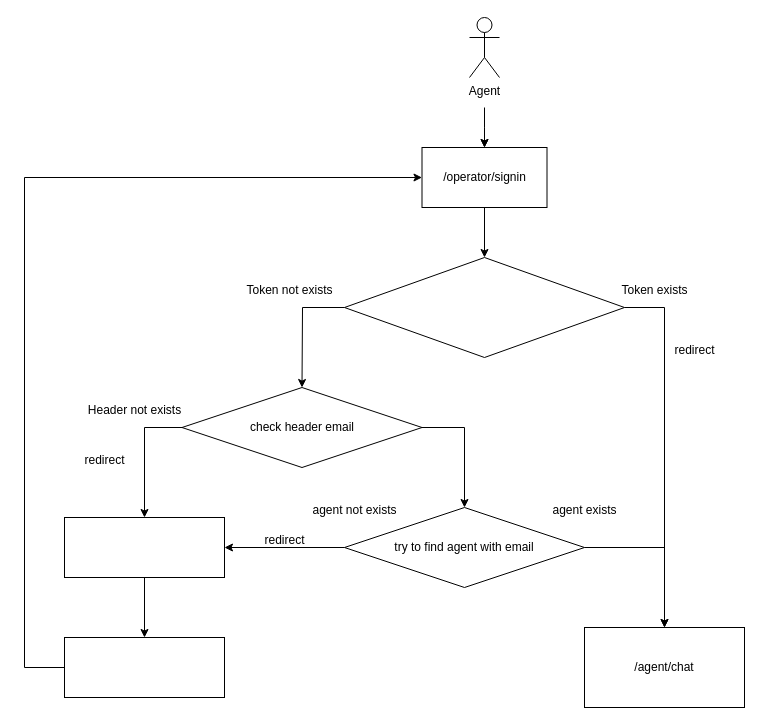
The diagram is 762 pixels wide and 725 high, and some of its shapes have lost their labels. Here are the shapes that lost their labels. From the top down, the centre of each, then its label:
the point at 484,307: Check auth_token
the point at 144,547: base_domain:base_port (balancer)
the point at 144,667: Add header email:agent_email
